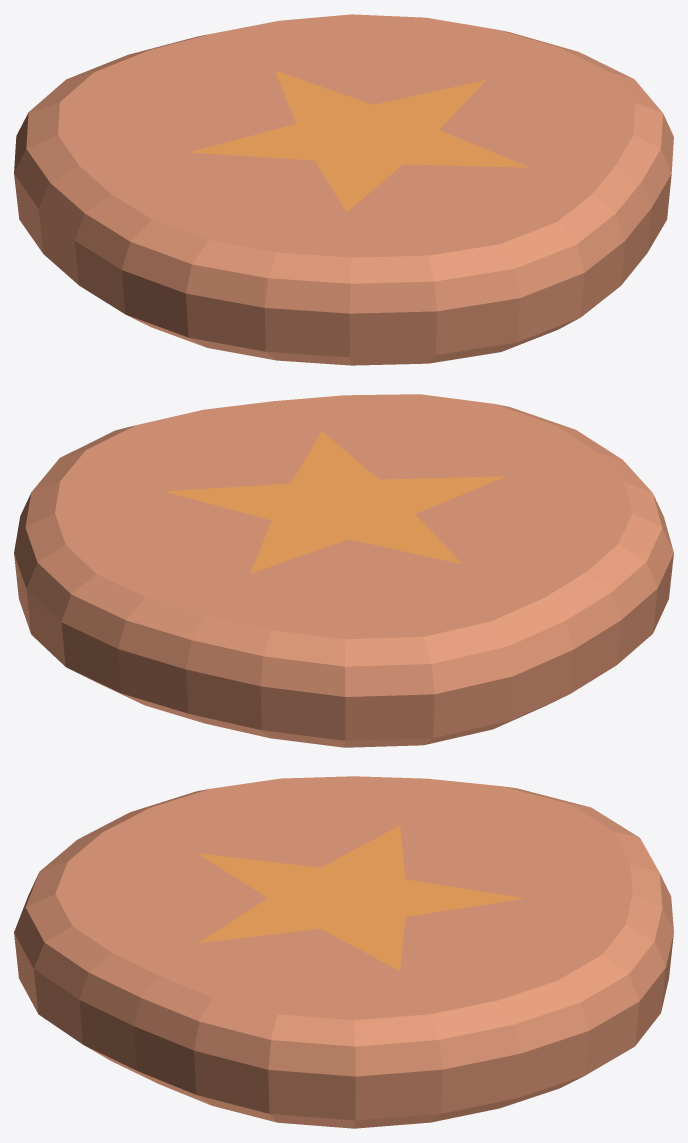
File: steppingStoneB.glb
3 views of the same model, one above another, from view 1: azimuth 30°, elevation 25°; view 2: azimuth 150°, elevation 25°; view 3: azimuth 270°, elevation 25° (orthographic).
Parts seen in each view (by area): view 1: steppingStoneB; view 2: steppingStoneB; view 3: steppingStoneB.
Boxes of the visible parts, <box> form: steppingStoneB: <box>14,14,673,365</box>; steppingStoneB: <box>14,394,673,747</box>; steppingStoneB: <box>14,776,673,1128</box>.
Bounding box in the file's own units: 1 × 0.18 × 1.
1 material, 1 textured.
